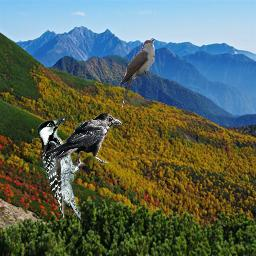Crow: (45, 112, 122, 168)
Cuckoo: (119, 39, 155, 109)
Woodpecker: (37, 115, 81, 223)
